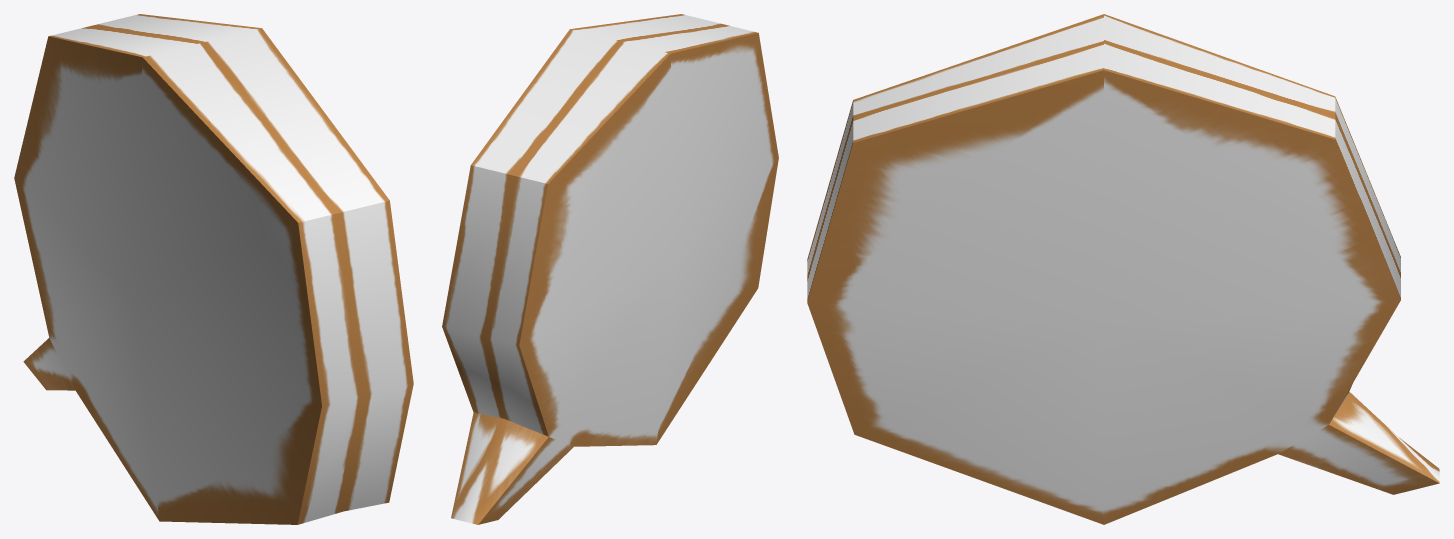
File: bubble model.fbx
The picture shows the model from 3 angles, left to right: view 1: azimuth 30°, elevation 25°; view 2: azimuth 150°, elevation 25°; view 3: azimuth 270°, elevation 25°; orthographic projection. The views are drawn at different scales.
Parts seen in each view (by area): view 1: pCube2; view 2: pCube2; view 3: pCube2.
Part boxes in pixels (box(x1,y1,x2,y2)): pCube2: box(14, 14, 413, 524); pCube2: box(442, 14, 778, 524); pCube2: box(807, 14, 1439, 524).
Size of the model in its own units: 0.6581 by 2.01 by 2.52.
Materials: 1 (1 with a texture image).
